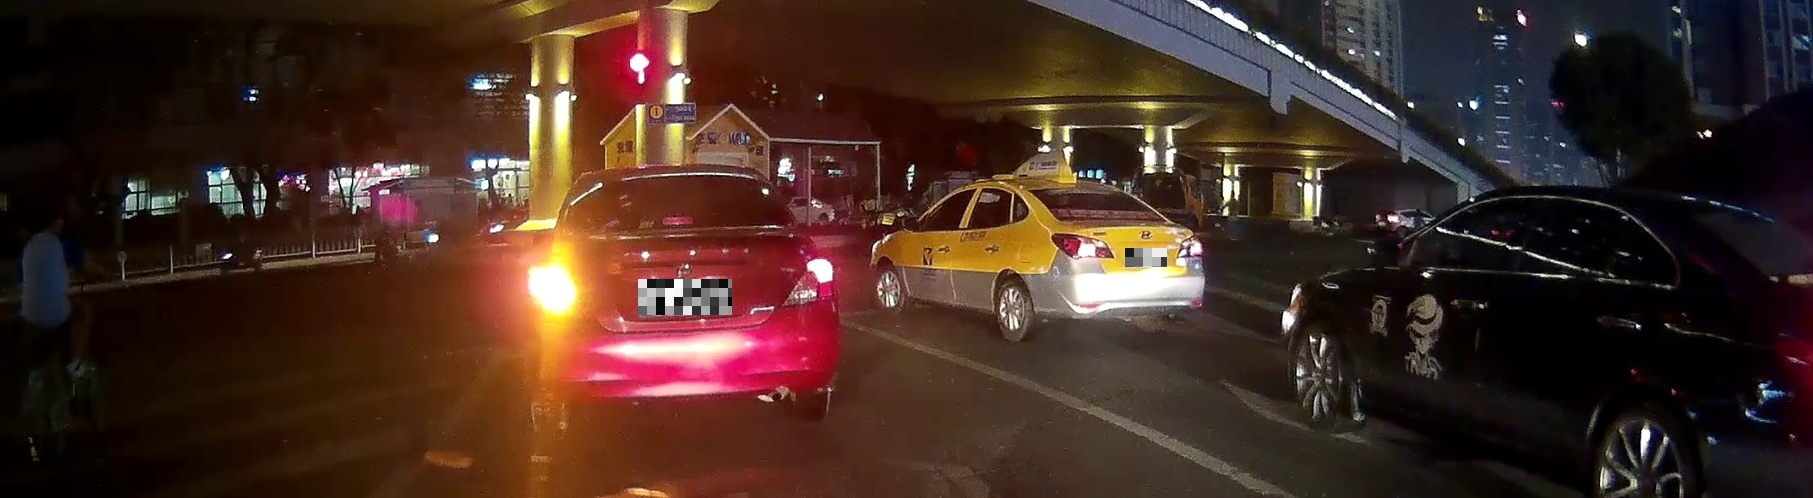L_light: (534, 267, 585, 315), (1051, 232, 1115, 260)
R_light: (783, 259, 835, 306), (1176, 235, 1202, 259)
T_light: (659, 216, 695, 226), (1076, 189, 1100, 193)
night-left: (528, 161, 842, 431)
night-no: (1020, 177, 1206, 344)
plate_1: (638, 278, 732, 315)
plate_2: (1125, 248, 1167, 267)
